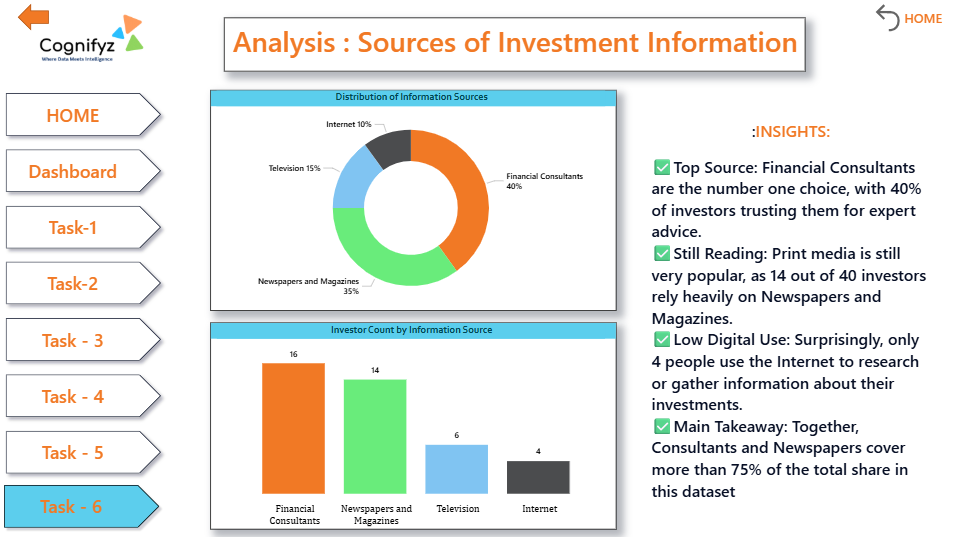

What the dashboard file says about the page in this screenshot:
{"tool":"powerbi","page":{"name":"Task - 6","canvas":[1280,720],"ordinal":7},"visuals":[{"type":"image","box":[0,0,226.7,120],"z":0},{"type":"shape","box":[25.7,5.7,41.4,35.7],"z":1000},{"type":"actionButton","box":[1161.4,0,100,47.1],"z":2000},{"type":"textbox","box":[300,23.3,775,71.7],"z":3000},{"type":"textbox","box":[865,155,381.7,550],"z":4000},{"type":"pageNavigator","box":[0,115,225,605],"z":5000},{"type":"donutChart","title":"Distribution of Information Sources","fields":{"Category":["Data_set 2.Source"],"Y":["CountNonNull(Data_set 2.Source)"]},"box":[281.4,120,541.4,294.3],"z":6000},{"type":"clusteredColumnChart","title":"Investor Count by Information Source","fields":{"Category":["Data_set 2.Source"],"Y":["CountNonNull(Data_set 2.Source)"]},"box":[281.4,430,541.4,275.7],"z":7000}]}

Visuals, with their boxes in screenshot pixels (x1, y1, x2, y2), scaled from the page's 1280x720 canvas onto the 955x537 screenshot:
image: box=[0, 0, 169, 90]
shape: box=[19, 4, 50, 31]
actionButton: box=[867, 0, 941, 35]
textbox: box=[224, 17, 802, 71]
textbox: box=[645, 116, 930, 526]
pageNavigator: box=[0, 86, 168, 536]
"Distribution of Information Sources" donutChart: box=[210, 90, 614, 309]
"Investor Count by Information Source" clusteredColumnChart: box=[210, 321, 614, 526]
